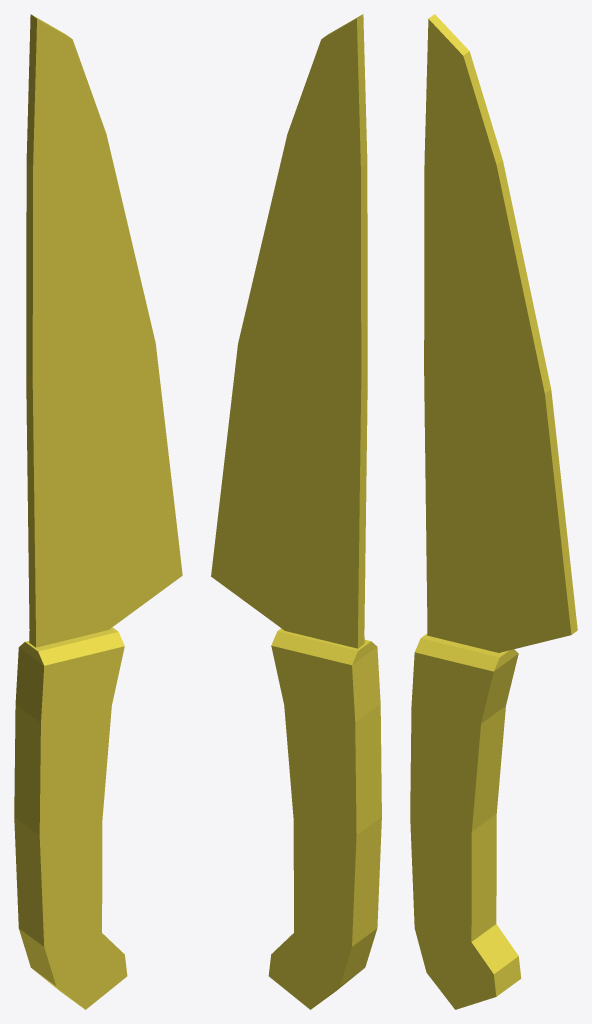
Rendered from kitchen-knife.glb.
3 renders of one model, left to right at view 1: azimuth 30°, elevation 25°; view 2: azimuth 150°, elevation 25°; view 3: azimuth 330°, elevation 25°, orthographic. The views are drawn at different scales.
Visible parts, largest first — view 1: Kitchen Knife; view 2: Kitchen Knife; view 3: Kitchen Knife.
Part boxes in pixels (x1=…): Kitchen Knife: x1=14, y1=14, x2=182, y2=1009; Kitchen Knife: x1=211, y1=14, x2=381, y2=1009; Kitchen Knife: x1=410, y1=14, x2=577, y2=1009.
Size of the model in its own units: 0.1656 by 1.02 by 0.0475.
